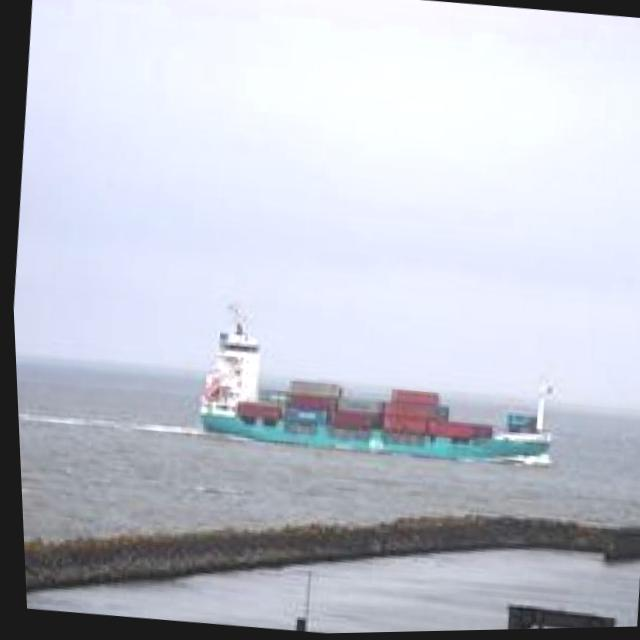ship2: (196, 305, 548, 465)
